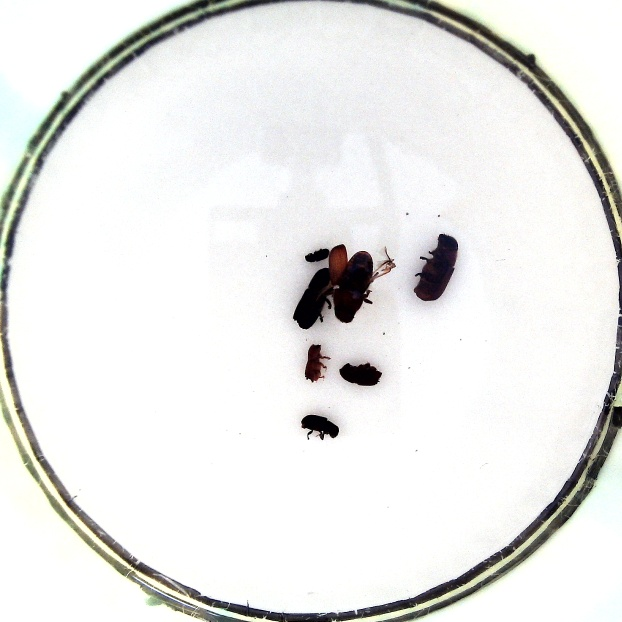acuminatus: (305, 343, 332, 385)
armandi: (300, 411, 340, 444)
boerner: (292, 267, 332, 333)
coleoptera: (300, 244, 328, 264)
leconte: (330, 244, 395, 323), (410, 233, 458, 302)
linnaeus: (337, 360, 381, 388)
